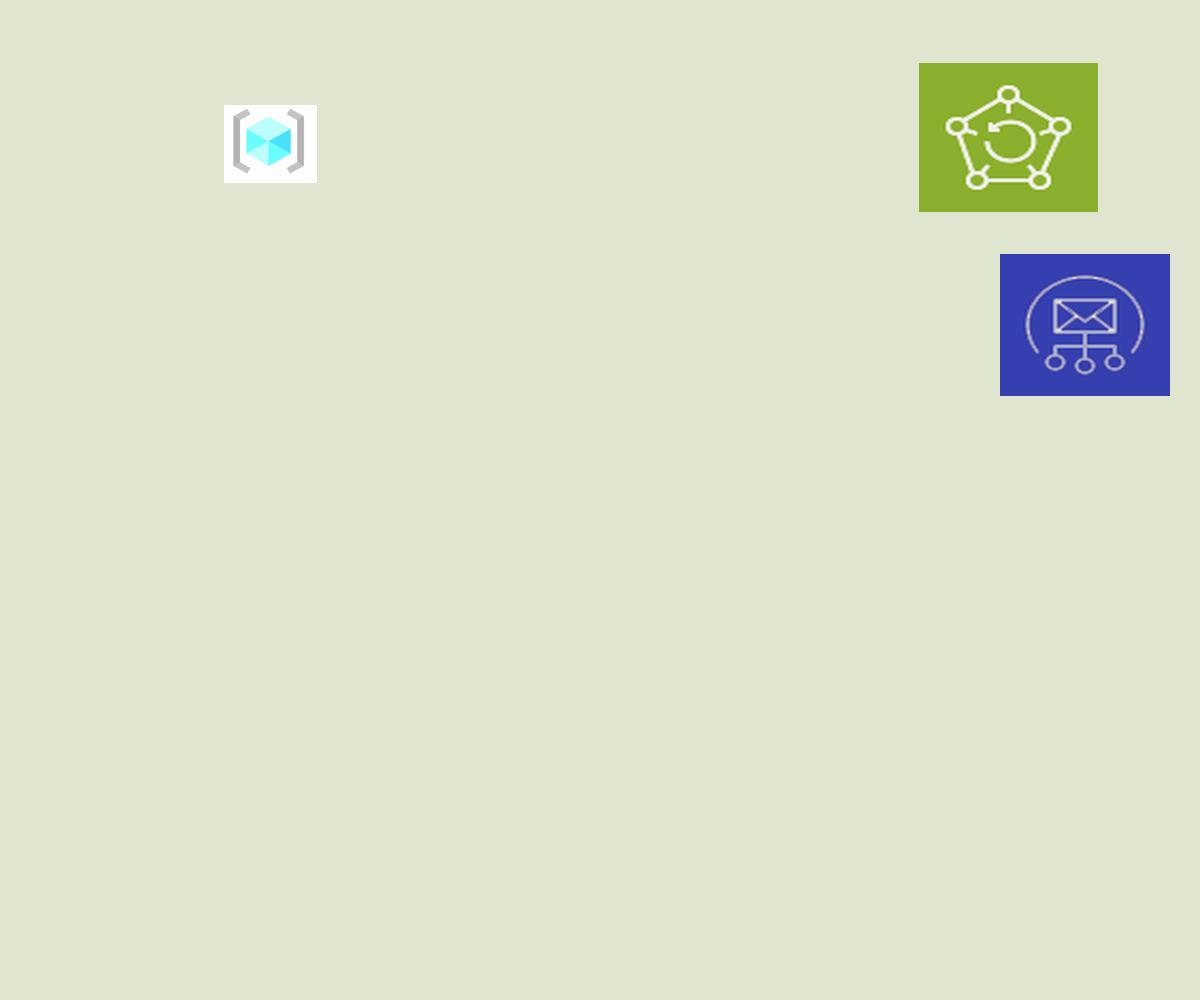AWS-Backup: (919, 63, 1098, 212)
AWS-Simple-Email-Service: (1000, 254, 1170, 396)
Azure_resource_group: (224, 105, 317, 183)
